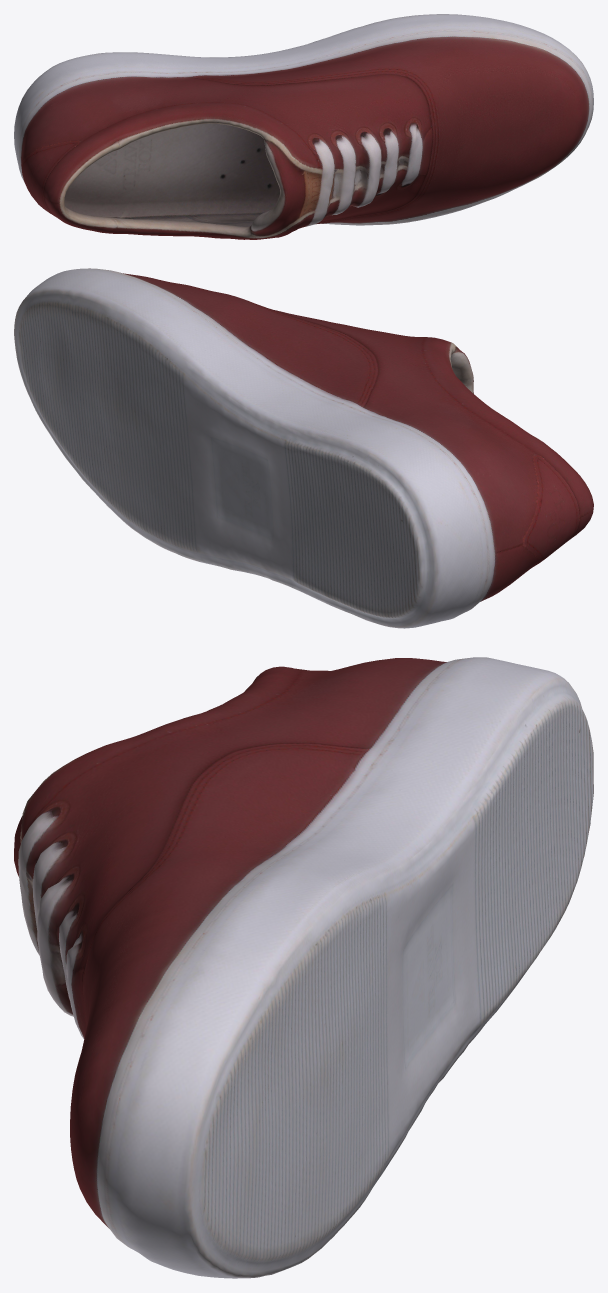
3 views of the same model, one above another, from view 1: azimuth 30°, elevation 25°; view 2: azimuth 150°, elevation 25°; view 3: azimuth 270°, elevation 25° (orthographic). The views are drawn at different scales.
Parts seen in each view (by area): view 1: mmGroup0; view 2: mmGroup0; view 3: mmGroup0.
Part boxes in pixels (left/top/right/bottom): mmGroup0: left=14, top=14, right=593, bottom=239; mmGroup0: left=14, top=268, right=593, bottom=628; mmGroup0: left=14, top=657, right=593, bottom=1278.
Size of the model in its own units: 364 by 132 by 189.
